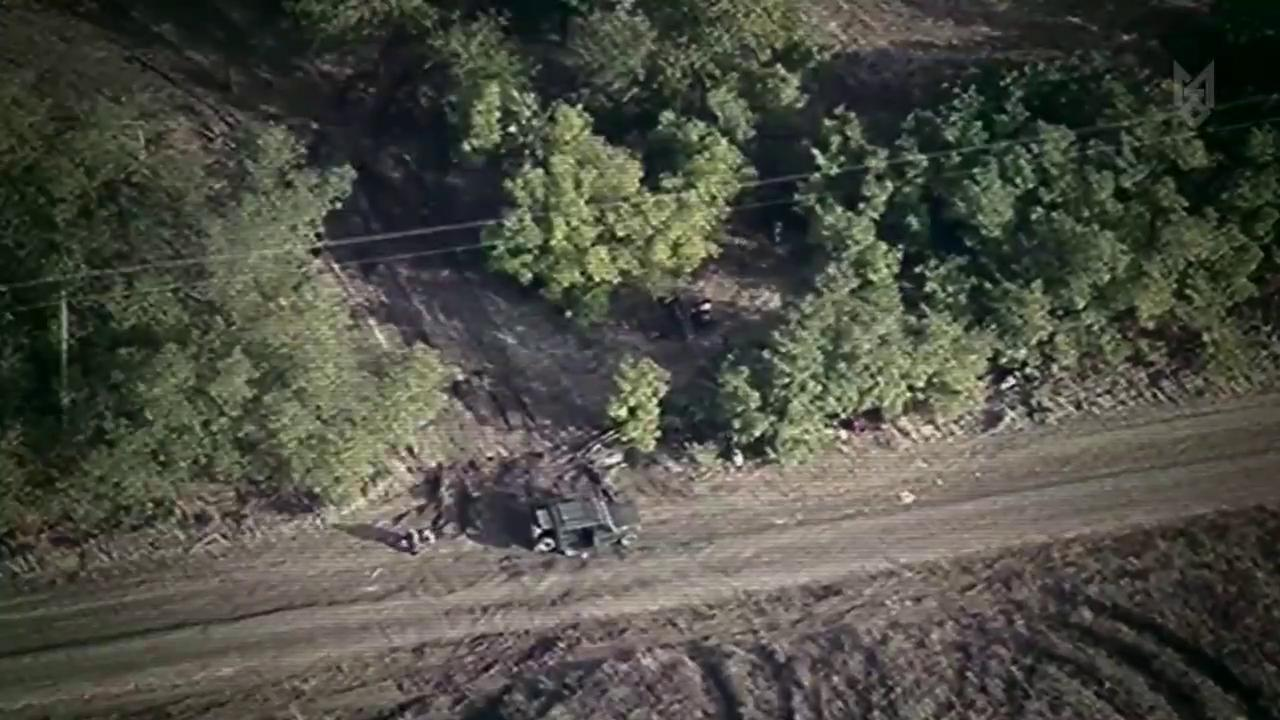tank: (525, 487, 647, 561)
